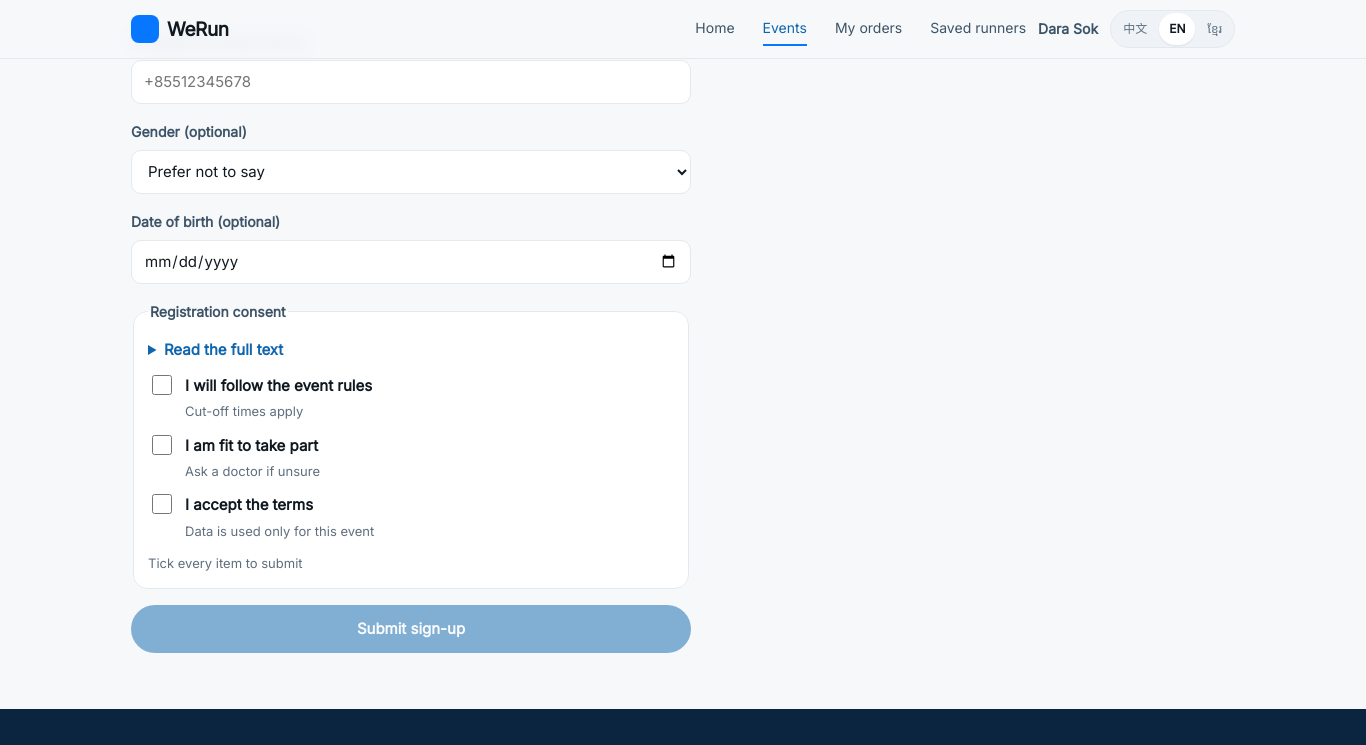
Test case: FreeSignupPage › 必填项为空时提示且不发请求
(page scrolled)
Step 1. Click the checkbox labelled "I will follow the event rules Cut-off times apply" → (162, 385), box top-left (152, 375), bottom-right (172, 395)
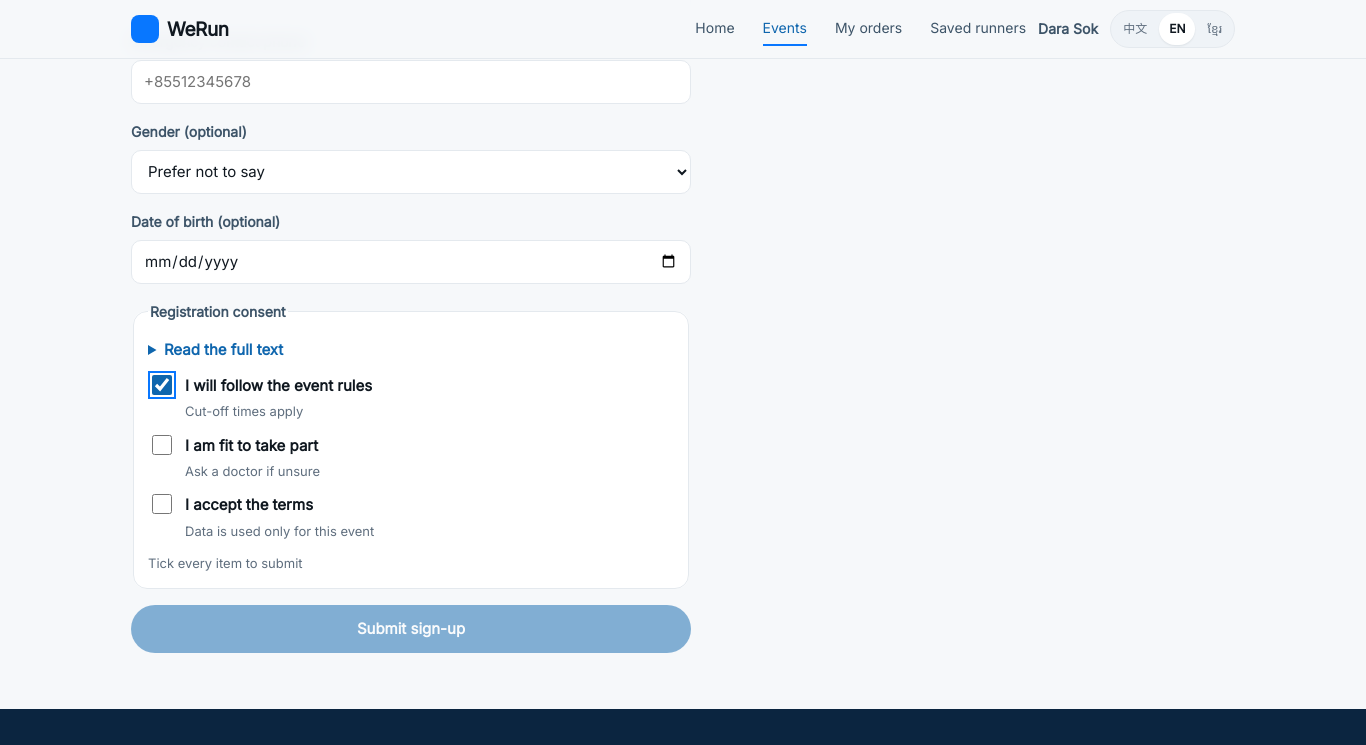
Step 2. Click the checkbox labelled "I am fit to take part Ask a doctor if unsure" → (162, 445), box top-left (152, 435), bottom-right (172, 455)
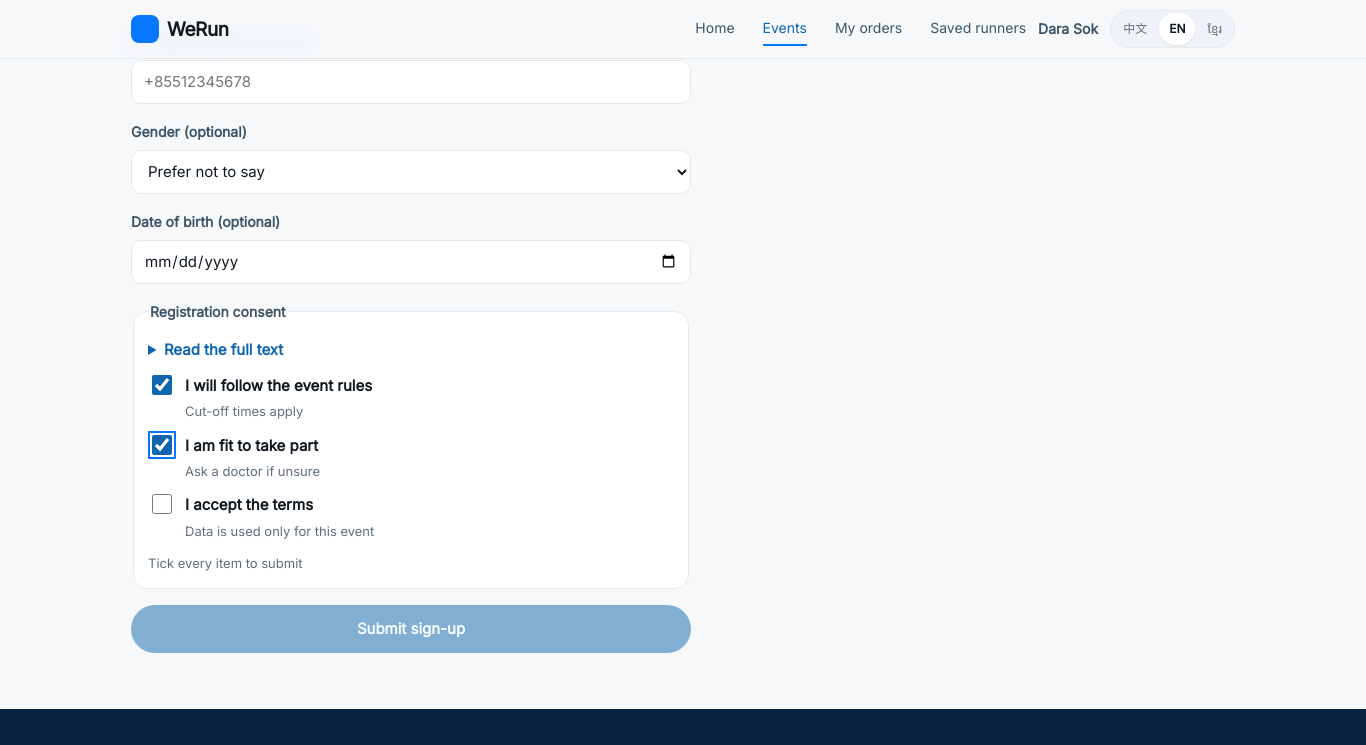
Step 3. Click the checkbox labelled "I accept the terms Data is used only for this event" → (162, 504), box top-left (152, 494), bottom-right (172, 514)
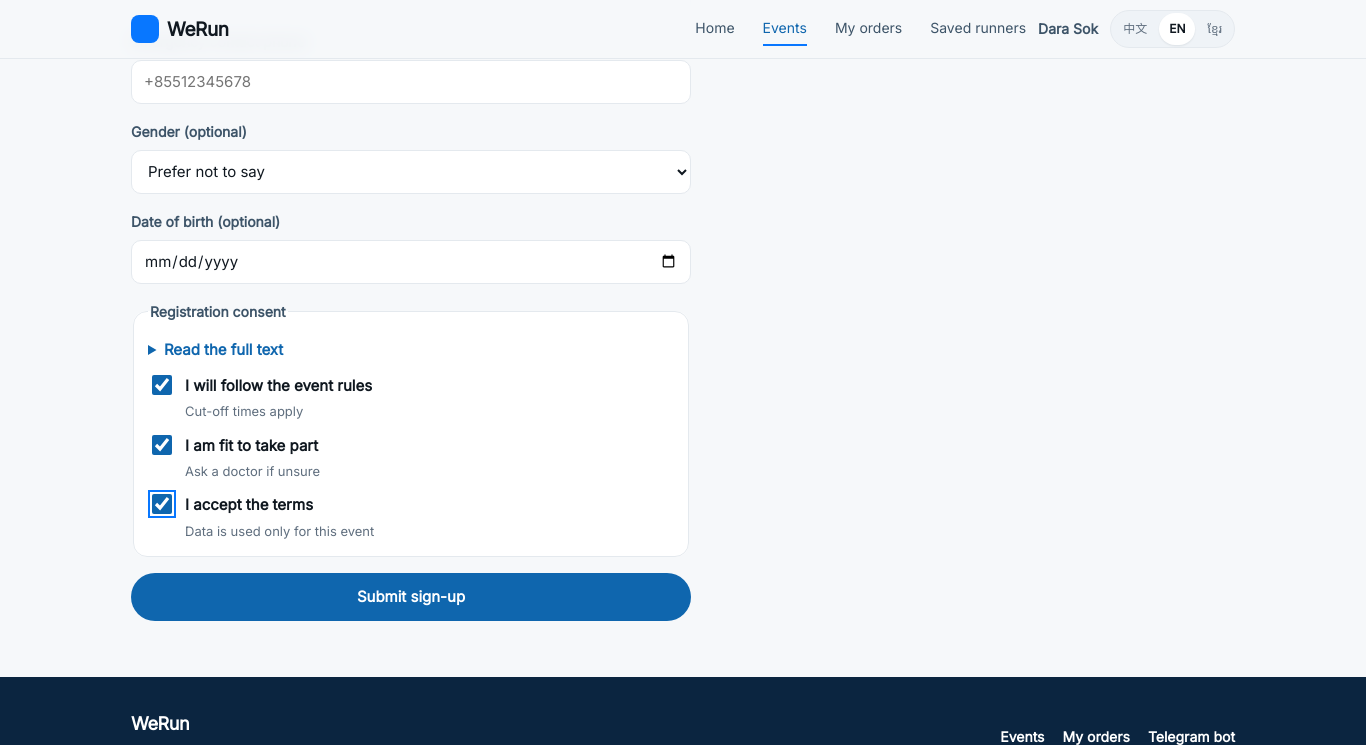
Step 4. Click the button with test id "free-submit" → (411, 597), box top-left (131, 573), bottom-right (691, 621)
(page scrolled)
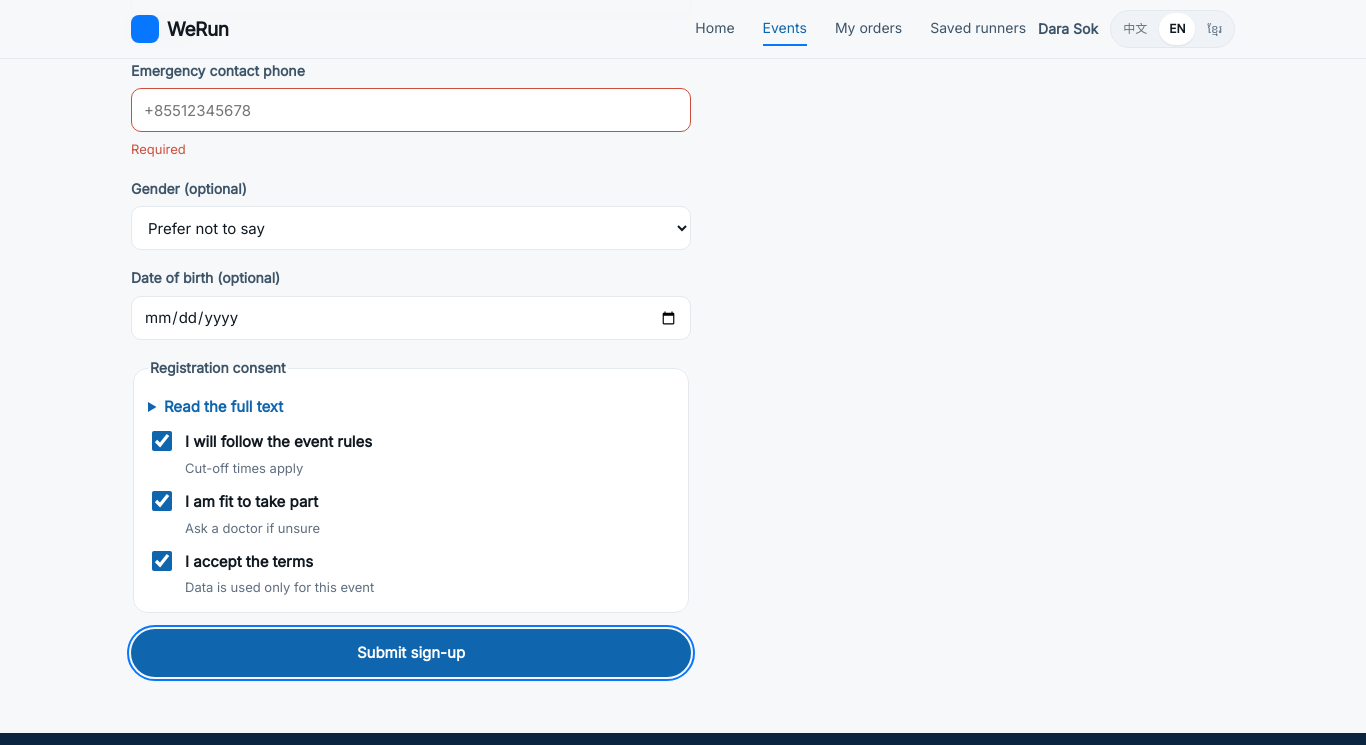
Expected: the text "Required" is shown 5 times
